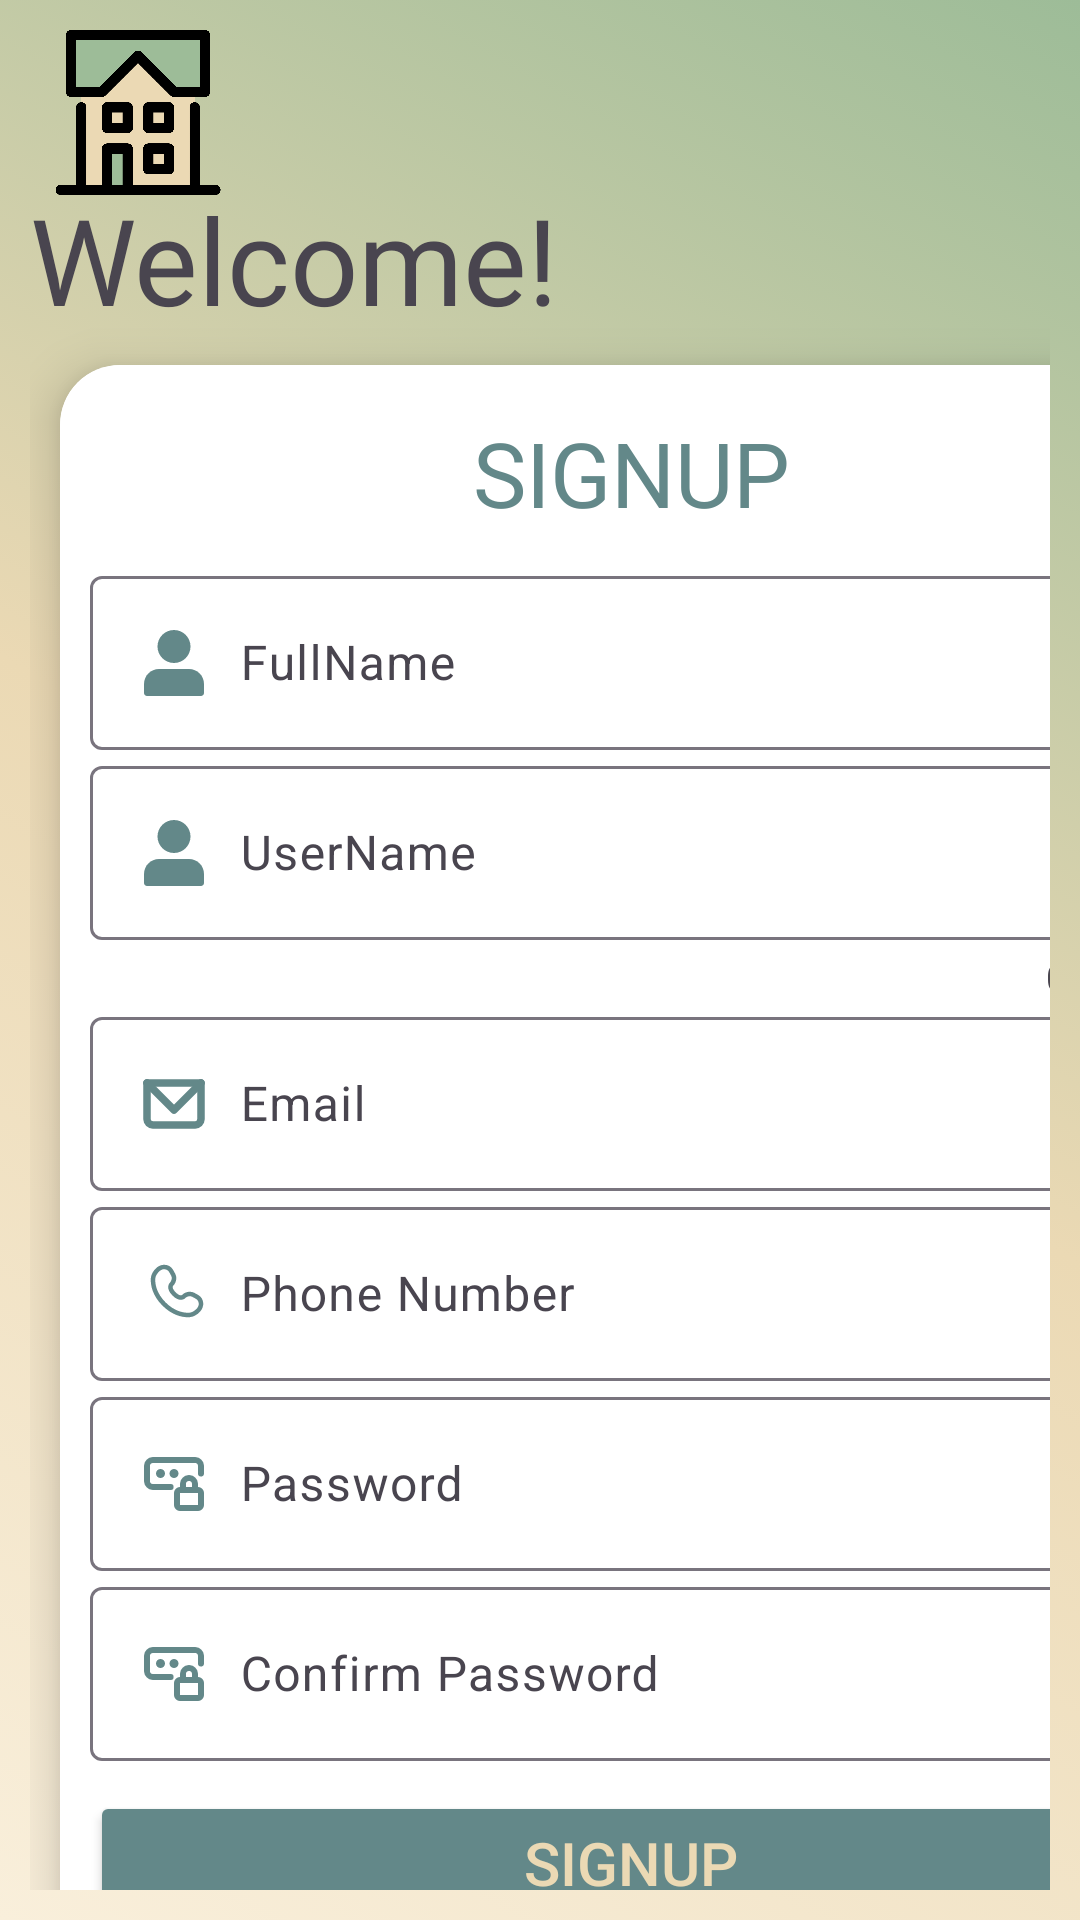

Icons on this 1080 x 1920 Android screen, each with the point to tap as (x,y):
house: (138,112)
